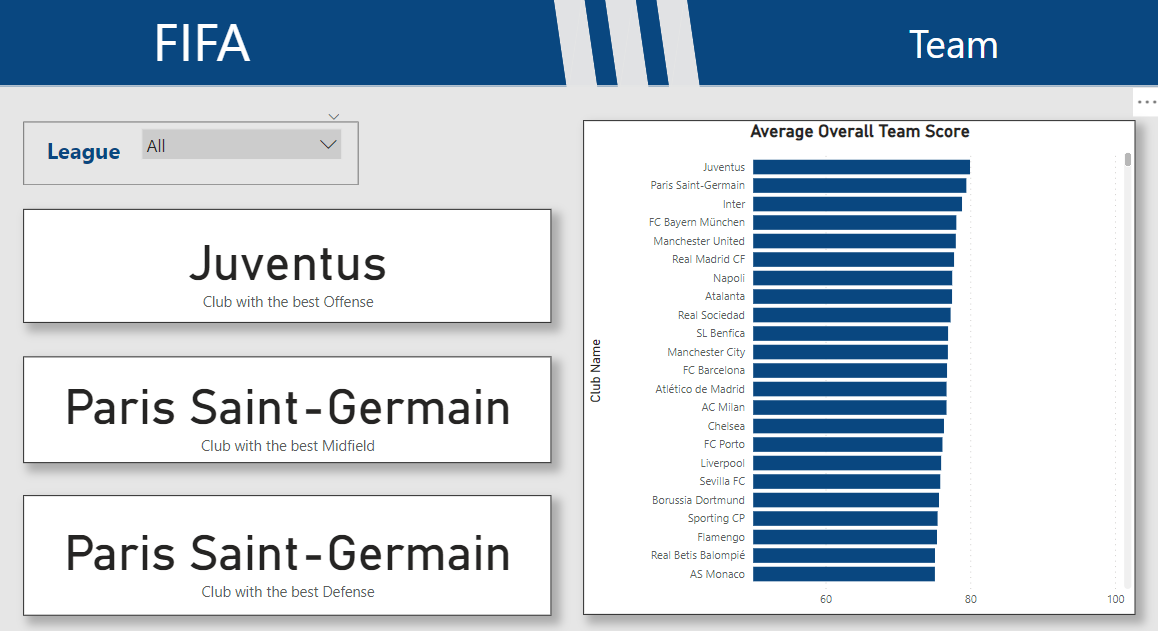

This screenshot's page, from the dashboard's own definition file:
{"tool":"powerbi","page":{"name":"Team","canvas":[1280,720],"ordinal":2},"visuals":[{"type":"shape","box":[28.9,150.2,367.8,69.9],"z":0},{"type":"shape","box":[0,12.1,1279.6,100.1],"z":1000},{"type":"textbox","box":[166.2,17.1,460.8,89.2],"z":4000},{"type":"textbox","box":[715.2,30.2,388.3,72.4],"z":5000},{"type":"shape","box":[625,3.8,35,120],"z":6000},{"type":"shape","box":[609,4.3,35,120],"z":7000},{"type":"shape","box":[681.2,3.8,35,120],"z":8000},{"type":"shape","box":[664.7,4.3,35,120],"z":9000},{"type":"shape","box":[737.5,3.8,35,120],"z":10000},{"type":"shape","box":[721,4.3,35,120],"z":11000},{"type":"slicer","fields":{"Values":["tbl_club.League Name"]},"box":[148.3,138.7,240.3,64.5],"z":12000},{"type":"textbox","box":[37.1,162.1,115.4,43.9],"z":13000},{"type":"clusteredBarChart","title":"Average Overall Team Score","fields":{"Category":["tbl_club.Club Name"],"Y":["Avg(tbl_stats.Overall)"]},"box":[642.7,149.7,605.7,542.5],"z":14000},{"type":"card","fields":{"Values":["tbl_club.Max Offense Club"]},"box":[28.8,247.2,579.6,125],"z":15000},{"type":"card","fields":{"Values":["tbl_club.Max Midfield Club"]},"box":[28.8,407.9,579.6,116.7],"z":16000},{"type":"card","fields":{"Values":["tbl_club.Max Defense Club"]},"box":[28.8,560.3,579.6,131.8],"z":17000}]}

Visuals, with their boxes on the page's 1280x720 design canvas (x1, y1, x2, y2). These are canvas units, not pixel positions in the 1158x631 screenshot, which may show the page scaled, cropped or inside an application window:
shape: region(29, 150, 397, 220)
shape: region(0, 12, 1280, 112)
textbox: region(166, 17, 627, 106)
textbox: region(715, 30, 1104, 103)
shape: region(625, 4, 660, 124)
shape: region(609, 4, 644, 124)
shape: region(681, 4, 716, 124)
shape: region(665, 4, 700, 124)
shape: region(738, 4, 772, 124)
shape: region(721, 4, 756, 124)
slicer - tbl_club.League Name: region(148, 139, 389, 203)
textbox: region(37, 162, 152, 206)
"Average Overall Team Score" clusteredBarChart: region(643, 150, 1248, 692)
card - tbl_club.Max Offense Club: region(29, 247, 608, 372)
card - tbl_club.Max Midfield Club: region(29, 408, 608, 525)
card - tbl_club.Max Defense Club: region(29, 560, 608, 692)
